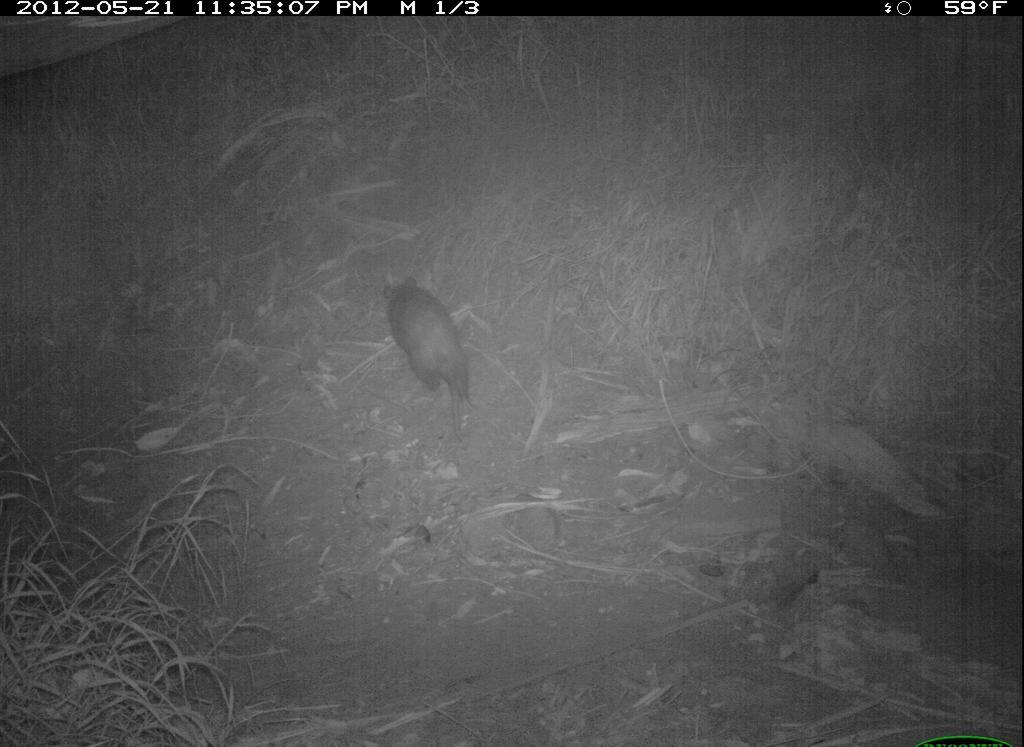opossum: (364, 265, 489, 449)
